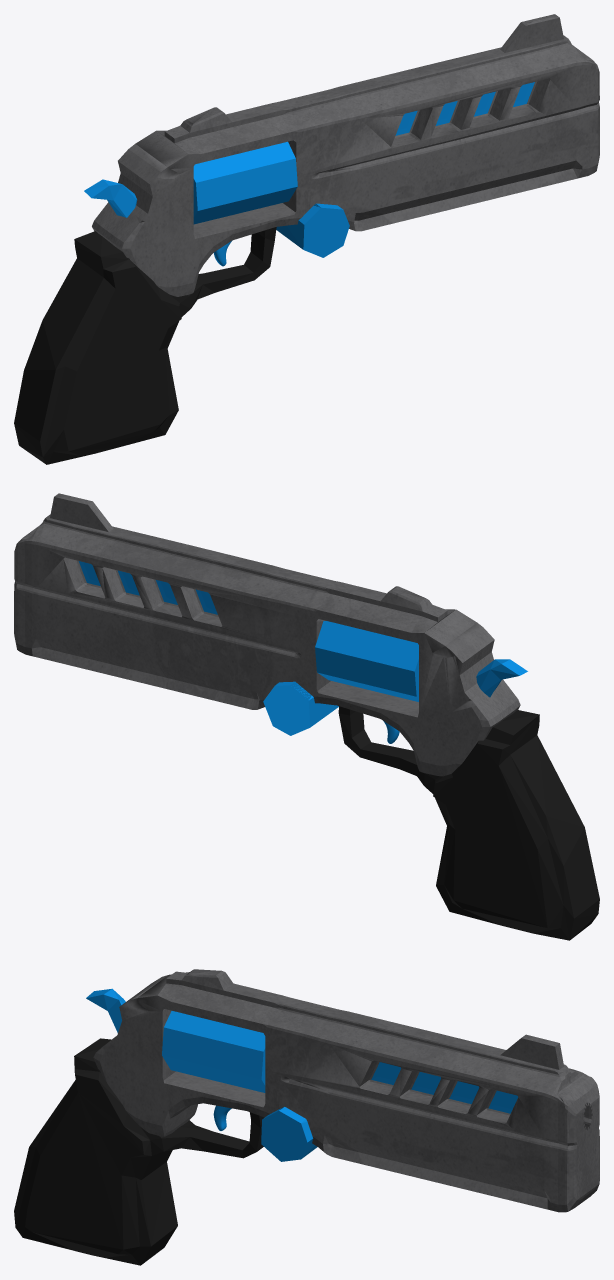
File: Gun.glb
The picture shows the model from 3 angles, top to bottom: view 1: azimuth 30°, elevation 25°; view 2: azimuth 150°, elevation 25°; view 3: azimuth 330°, elevation 25°; orthographic projection.
Parts seen in each view (by area): view 1: Cube.002, Cylinder.001, Cylinder, Cube.004; view 2: Cube.002, Cylinder.001, Cylinder, Cube.004; view 3: Cube.002, Cylinder.001, Cylinder, Cube.004.
Part boxes in pixels (x1,y1,x2,y2): Cube.002: (14,14,599,464); Cylinder.001: (193,141,297,224); Cylinder: (276,203,349,257); Cube.004: (84,179,137,217); Cube.002: (14,493,599,940); Cylinder.001: (315,621,418,701); Cylinder: (263,681,338,735); Cube.004: (476,659,527,697); Cube.002: (14,969,599,1265); Cylinder.001: (162,1011,265,1092); Cylinder: (261,1106,317,1161); Cube.004: (86,988,125,1032).
Size of the model in its own units: 7.98 by 4.39 by 1.05.
3 materials, 2 textured.
